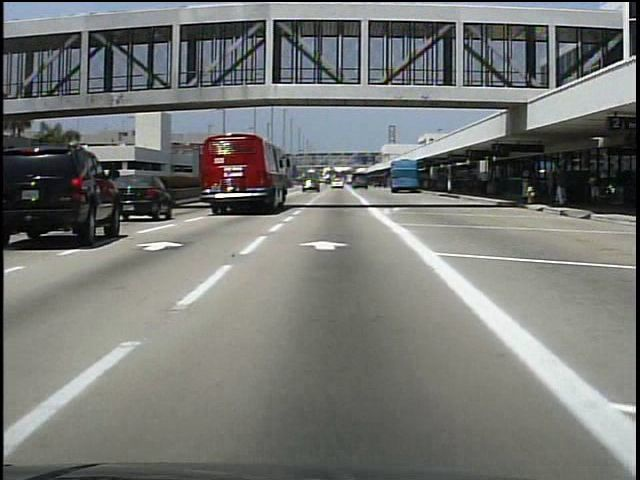person: (585, 169, 604, 213), (476, 168, 488, 193)
